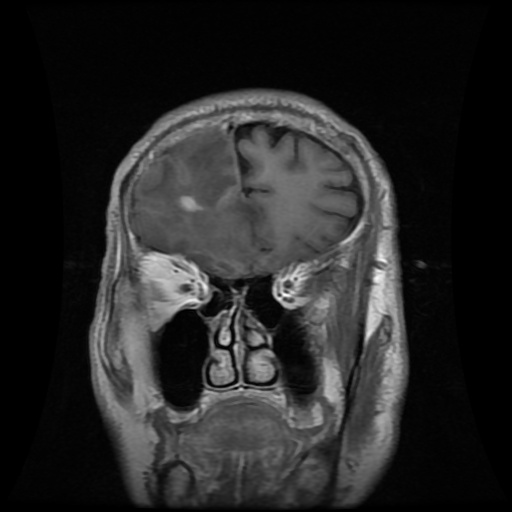glioma: (136, 128, 274, 271)
